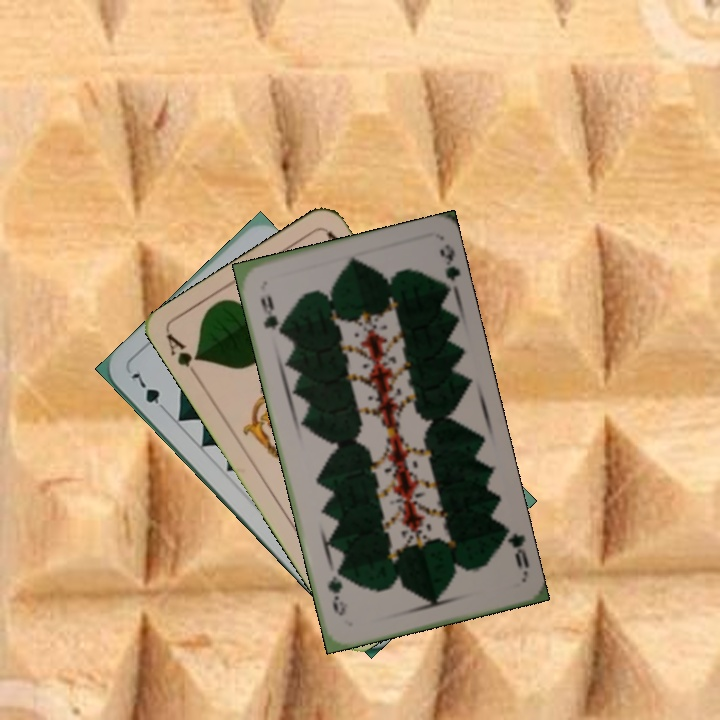G7: (127, 369, 171, 415)
G9: (498, 522, 532, 578), (256, 290, 284, 337)
GA: (163, 330, 203, 383)
